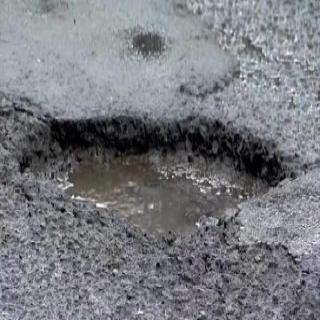pothole: (0, 103, 306, 248)
